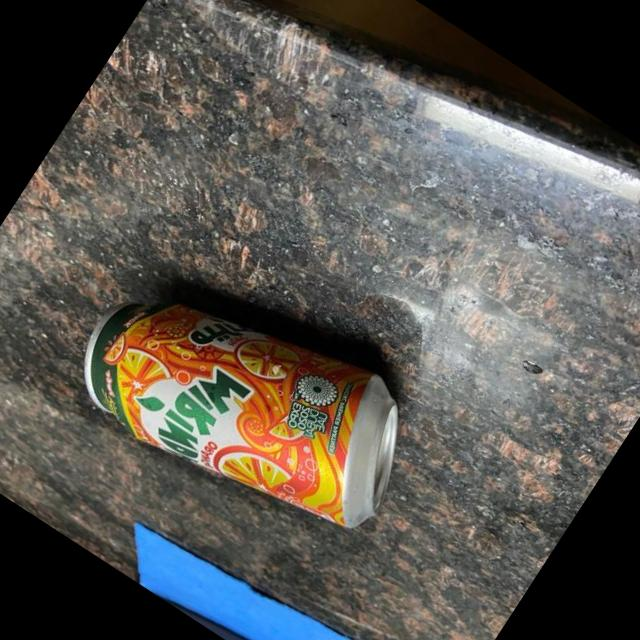Kaleng: (53, 229, 441, 573)
